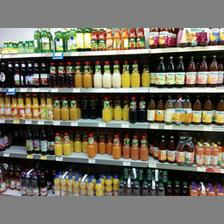Saft: (100, 96, 112, 120), (122, 59, 130, 85), (86, 132, 94, 158), (54, 130, 62, 154), (40, 27, 48, 51)
